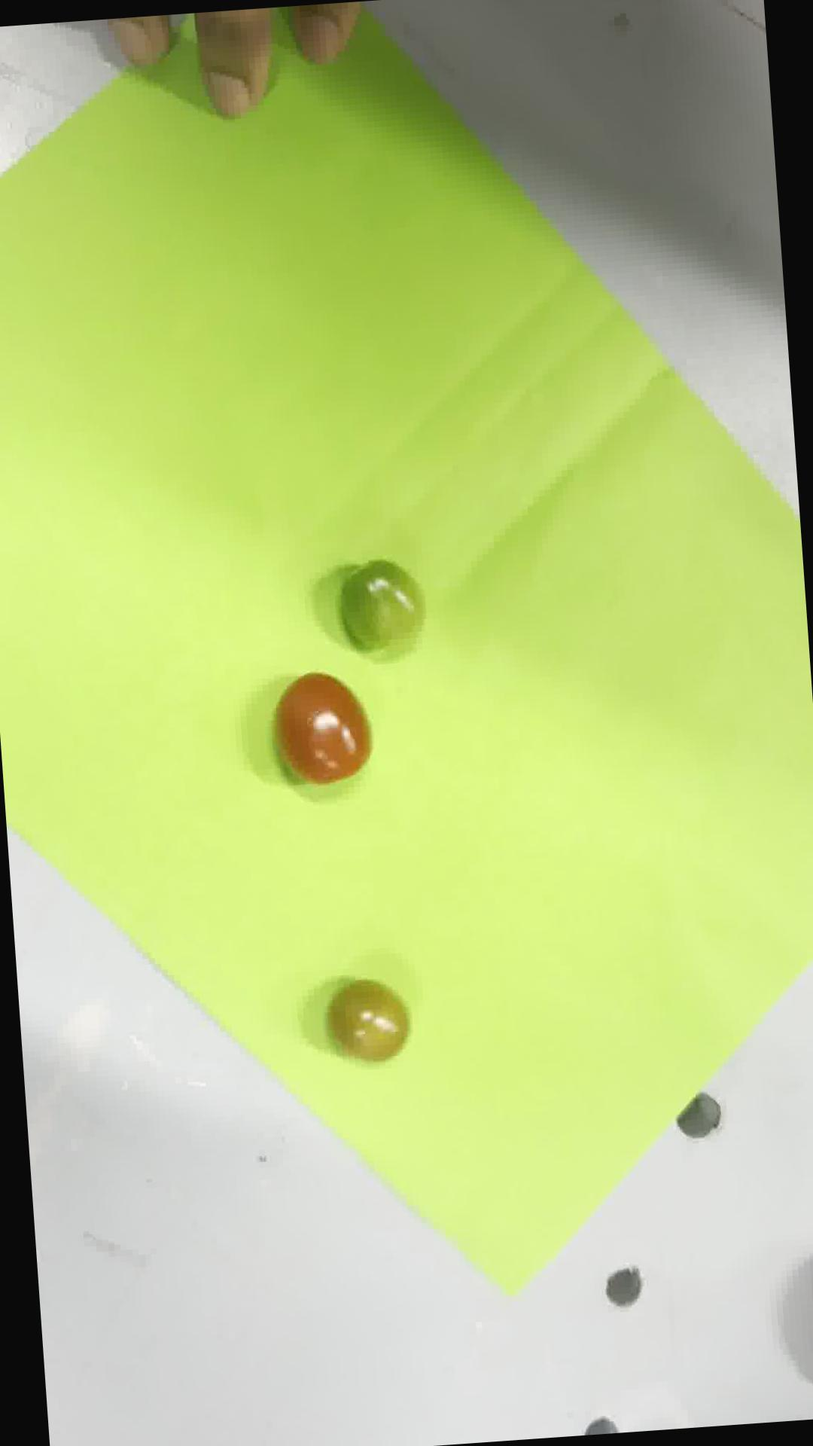green_cherry_tomato: (339, 559, 425, 657)
red_cherry_tomato: (275, 673, 371, 785)
yellow_cherry_tomato: (326, 979, 409, 1062)
